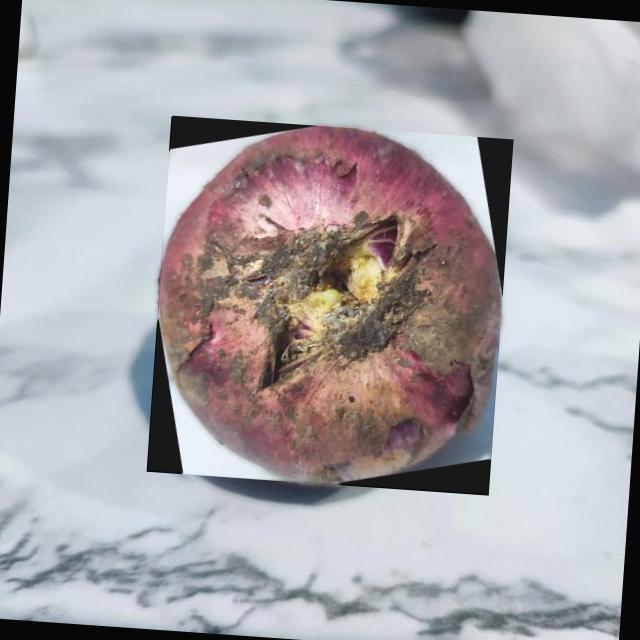rotten: (159, 126, 500, 483)
